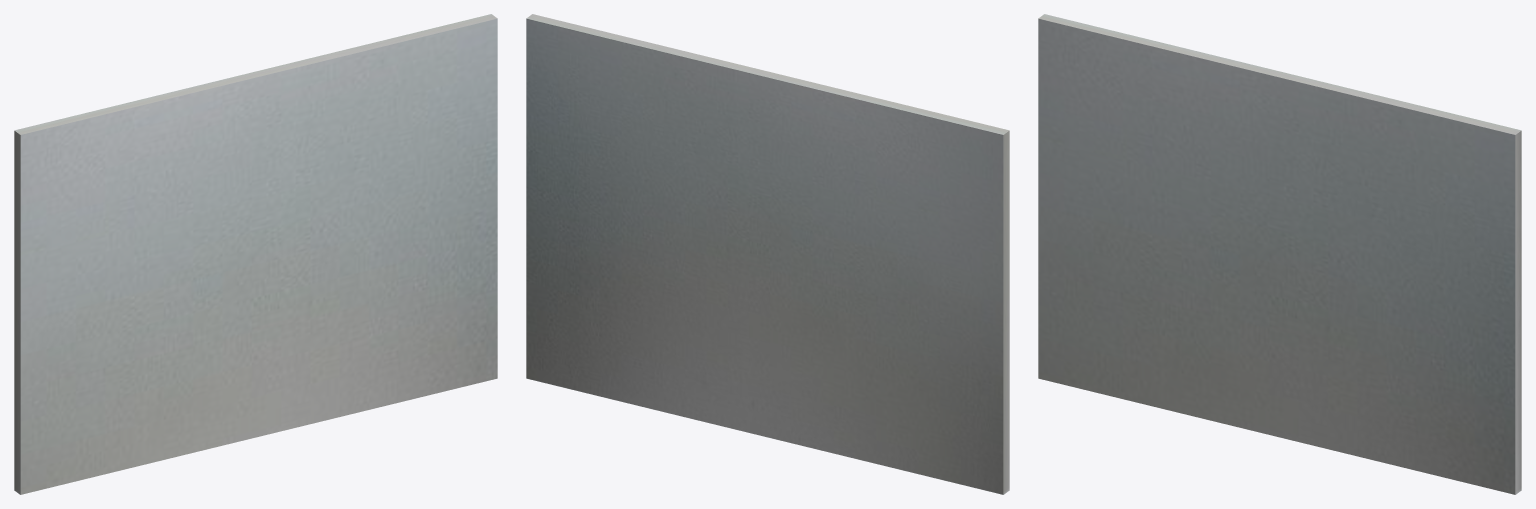
The model's file is ComplexShopJewelry.fbx.
3 views of the same model, side by side, from view 1: azimuth 30°, elevation 25°; view 2: azimuth 150°, elevation 25°; view 3: azimuth 330°, elevation 25° (orthographic).
Visible parts, largest first — view 1: pCube2; view 2: pCube2; view 3: pCube2.
Part boxes in pixels (<box>): pCube2: <box>14,14,497,494</box>; pCube2: <box>526,14,1009,494</box>; pCube2: <box>1038,14,1521,494</box>.
Size of the model in its own units: 14.66 by 10.56 by 0.3347.
